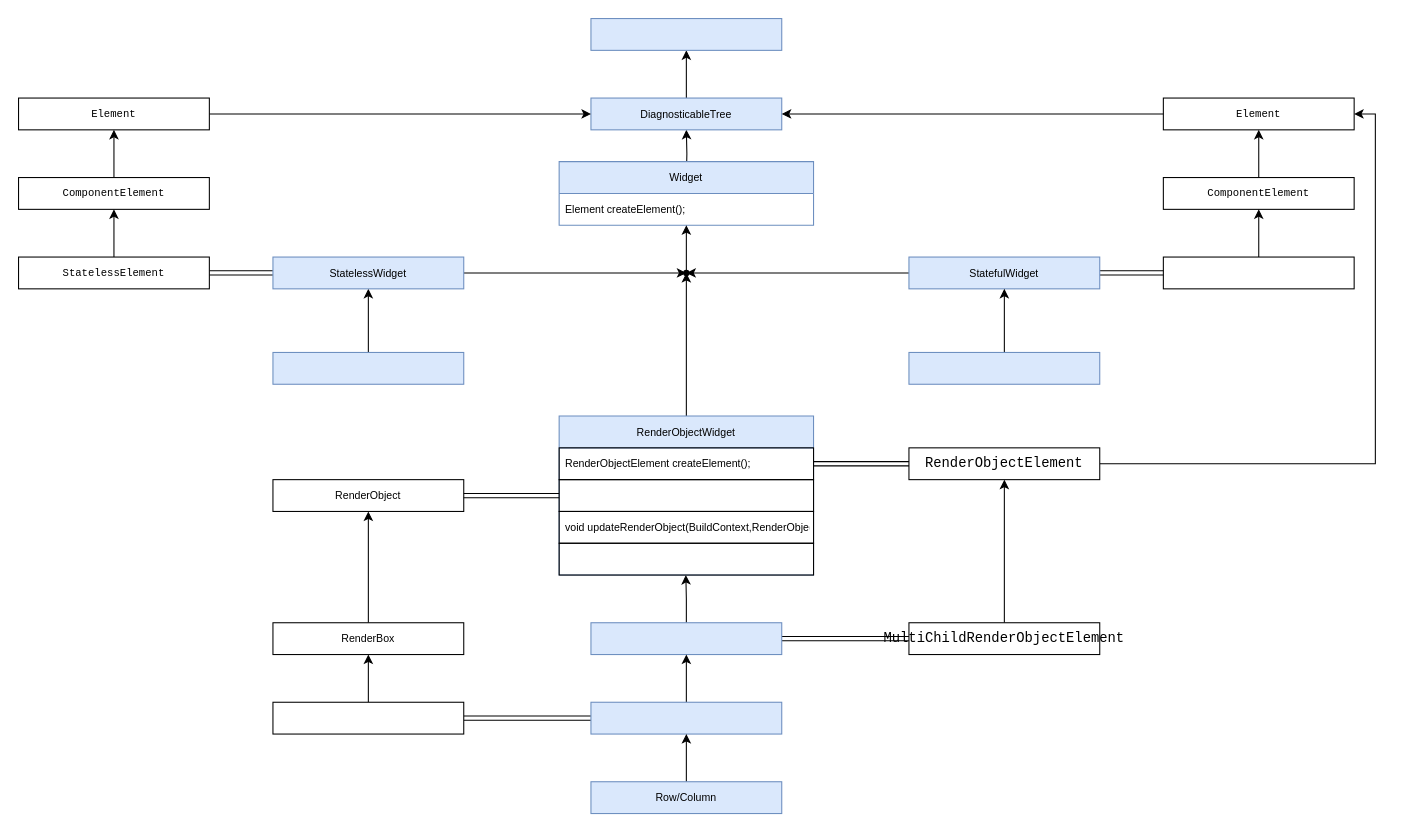
Image size: 1402x832. Some labels were removed from this diagram. The centre of each missing label's shape, as x and y in pixels:
"BuildContext" goes at point (686, 33).
"Container/Text" goes at point (368, 367).
"Flex" goes at point (686, 717).
"MultiChildRenderObjectWidget" goes at point (686, 638).
"RenderFlex" goes at point (368, 717).
"RenderObject createRenderObject(BuildContext);" goes at point (686, 495).
"Scaffold/MarerialApp" goes at point (1004, 367).
"StatefulElement" goes at point (1258, 272).
"void didUnmountRenderObject(RenderObject)" goes at point (686, 558).
